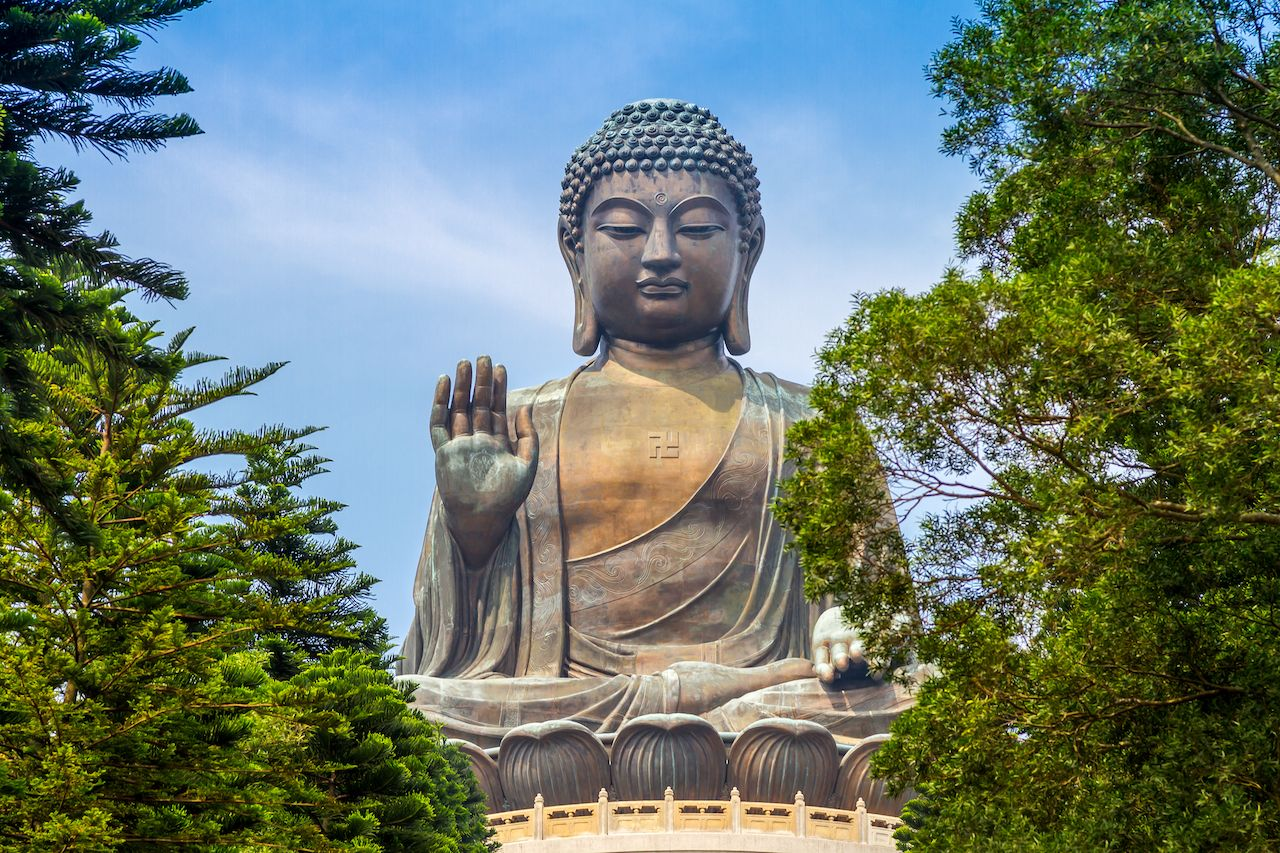person-like: (420, 93, 947, 773)
